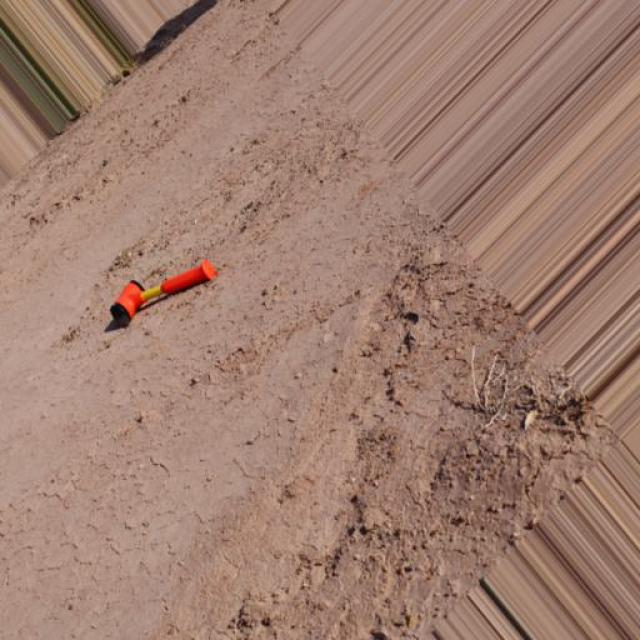mallet: (108, 258, 218, 326)
